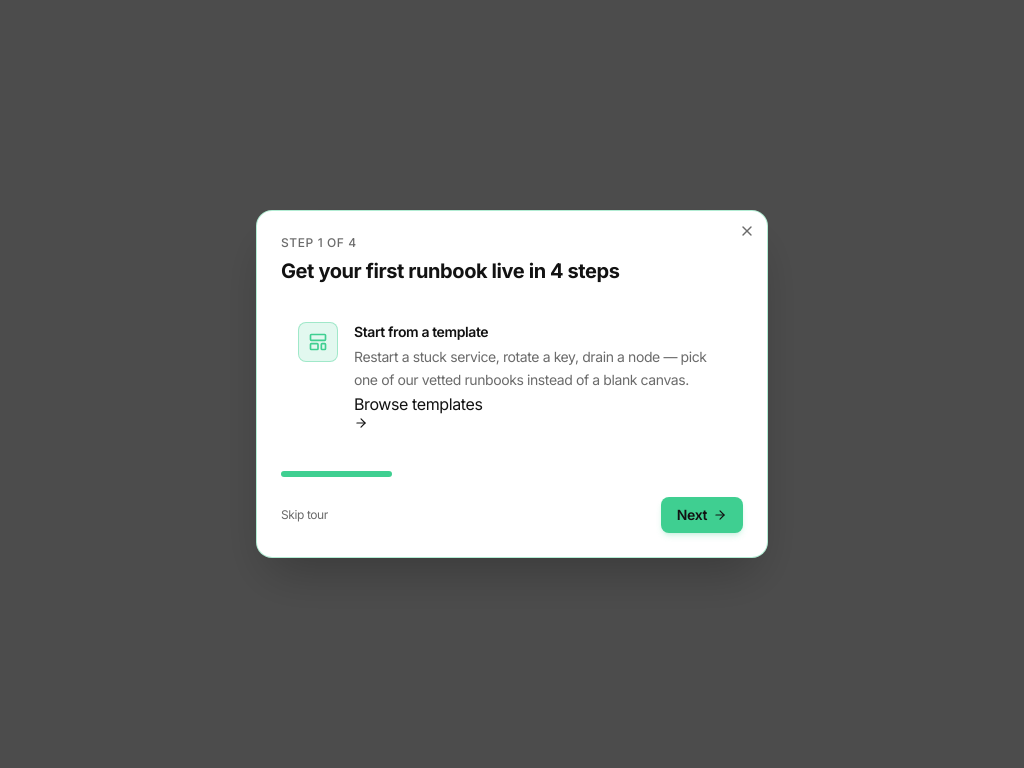
Test: OnboardingTour › advances through all 4 steps with Next and goes back with Back
# Step 1 → Step 2
Click the button "Next" at (702, 515), box [661, 497, 743, 533]
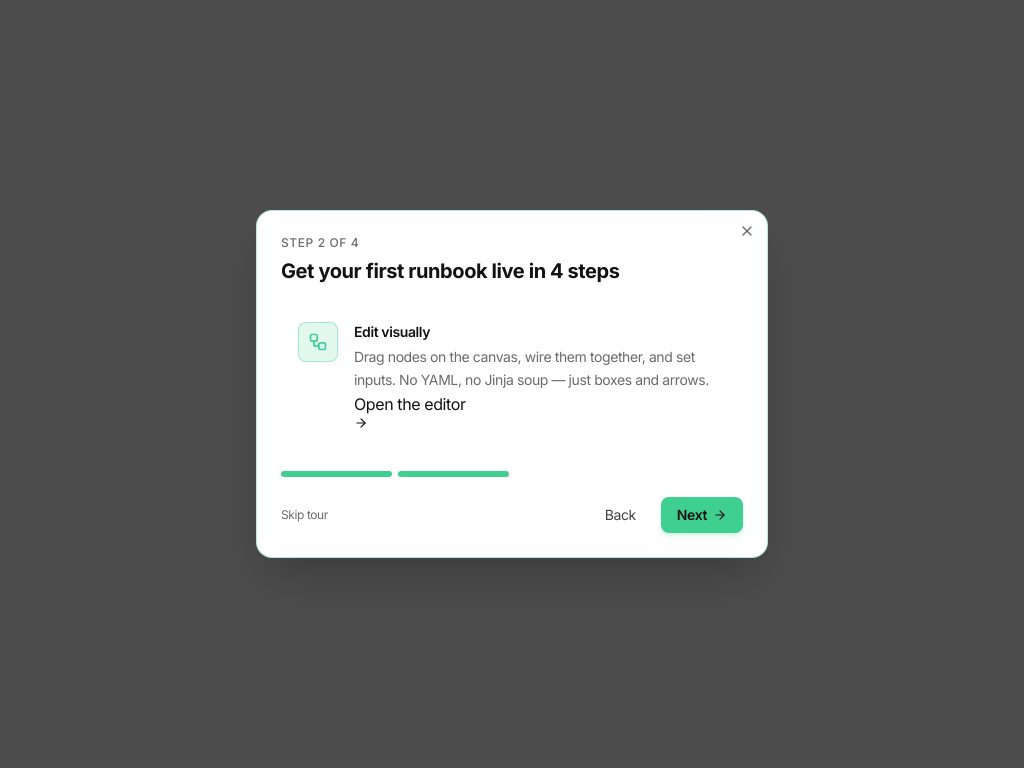
Check: the text "Step 2 of 4" is shown, box [281, 235, 359, 250]
Check: the heading "Edit visually" is shown, box [354, 323, 430, 340]
# Step 2 → Step 3
Click the button "Next" at (702, 515), box [661, 497, 743, 533]
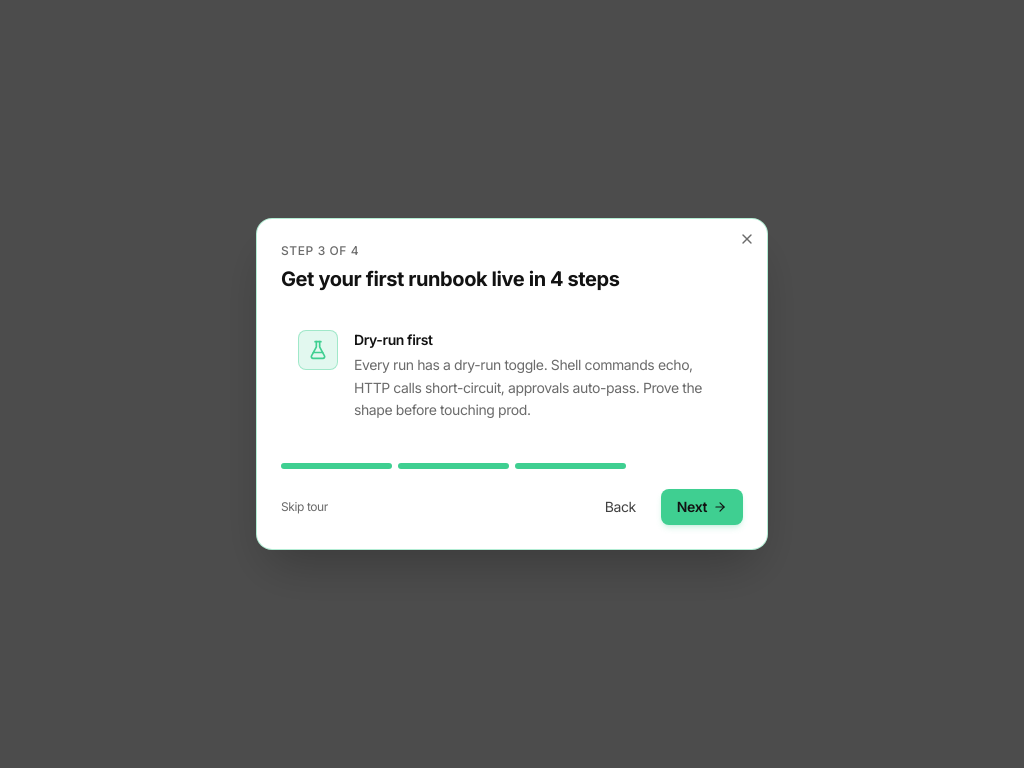
Check: the text "Step 3 of 4" is shown, box [281, 243, 359, 258]
Check: the heading "Dry-run first" is shown, box [354, 331, 432, 348]
# Step 3 → Step 4 (last — button flips to Let's go)
Click the button "Next" at (702, 507), box [661, 489, 743, 525]
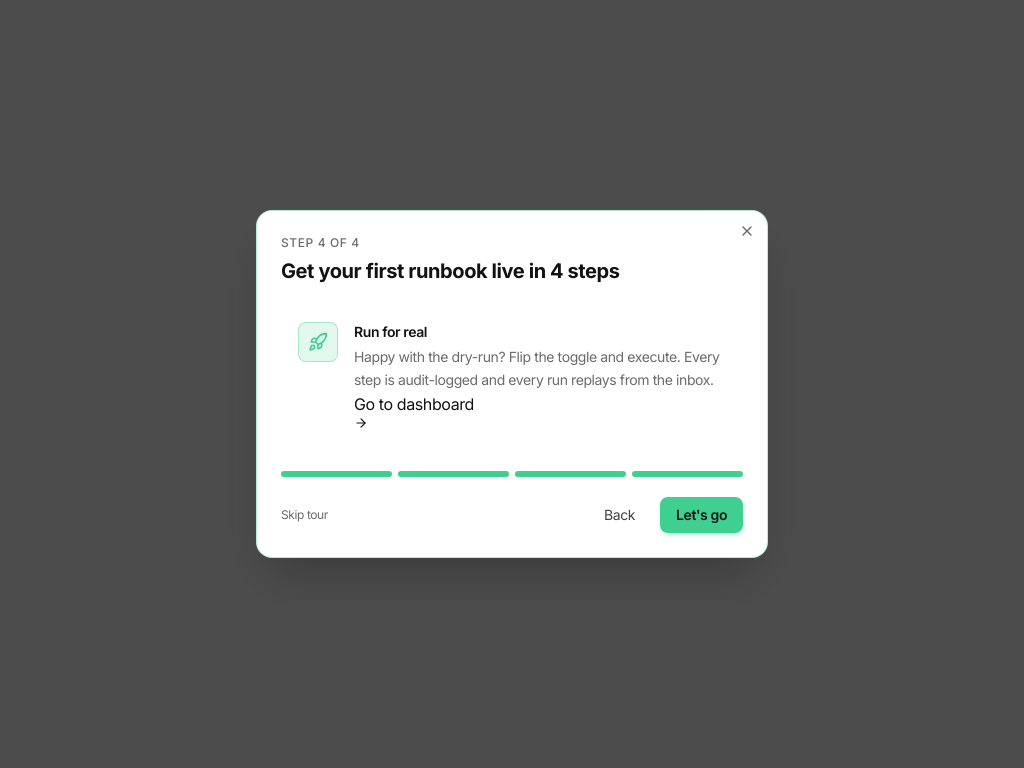
Check: the text "Step 4 of 4" is shown, box [281, 235, 360, 250]
Check: the button "Let's go" is shown, box [660, 497, 743, 533]
# Back → Step 3
Click the button "Back" at (620, 515), box [587, 497, 652, 533]
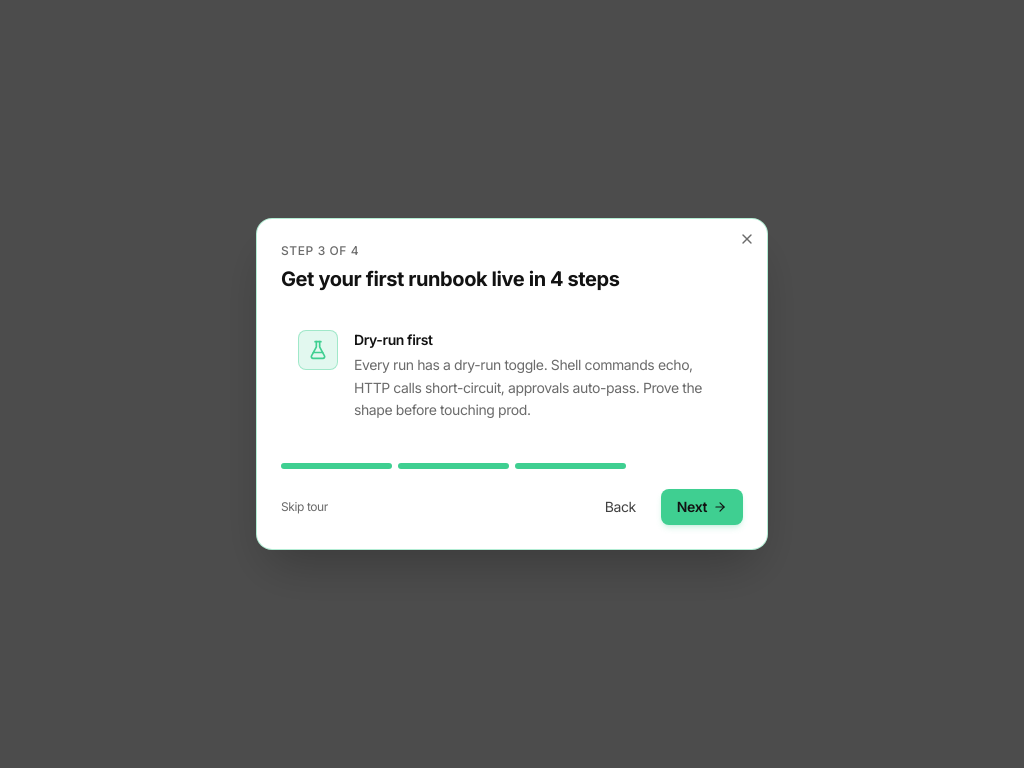
Check: the text "Step 3 of 4" is shown, box [281, 243, 359, 258]
